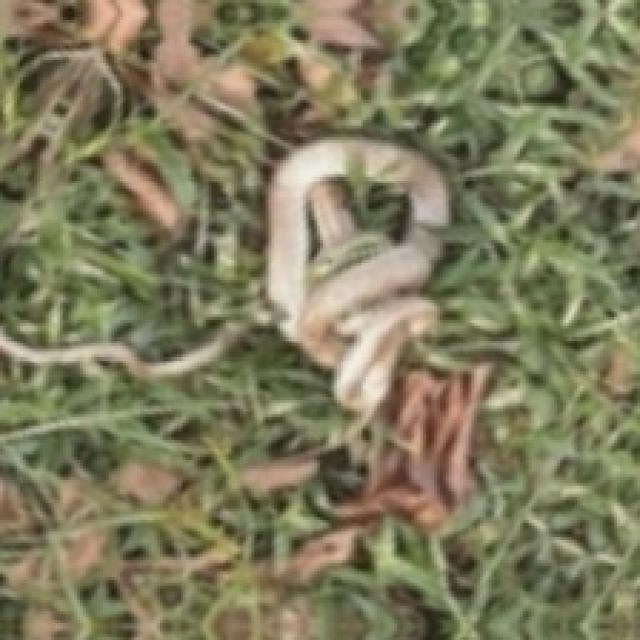paradise tree snake: (266, 137, 449, 414)
